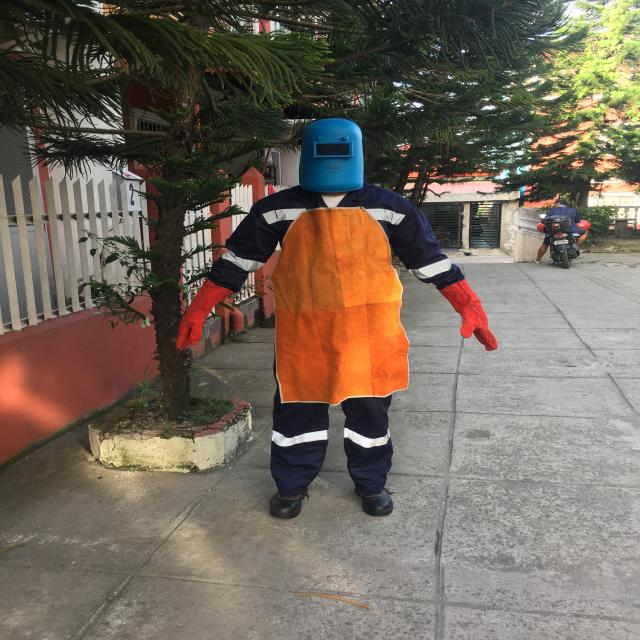with_helmet: (286, 108, 376, 200)
